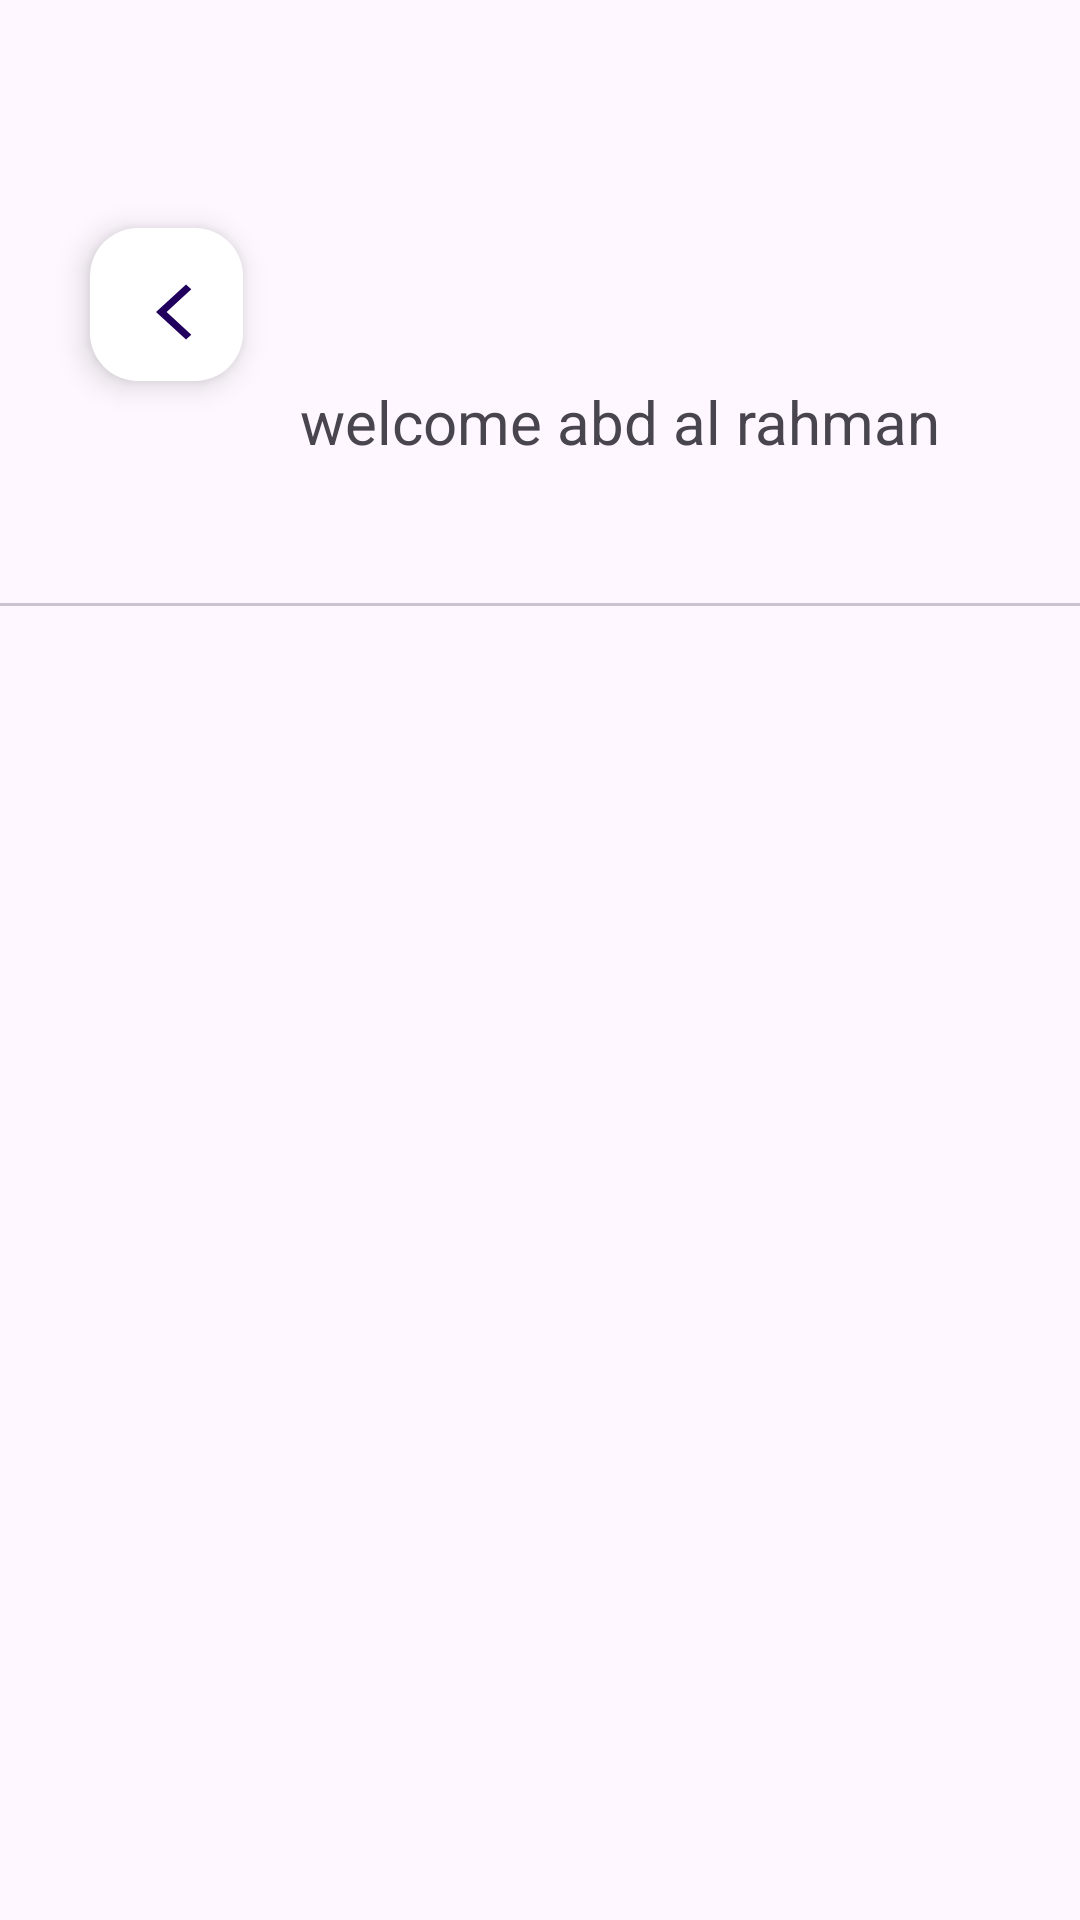

Screen size 1080*1920. Icon name, then its center in pixels as [x,y]:
arrow back: [166,304]
